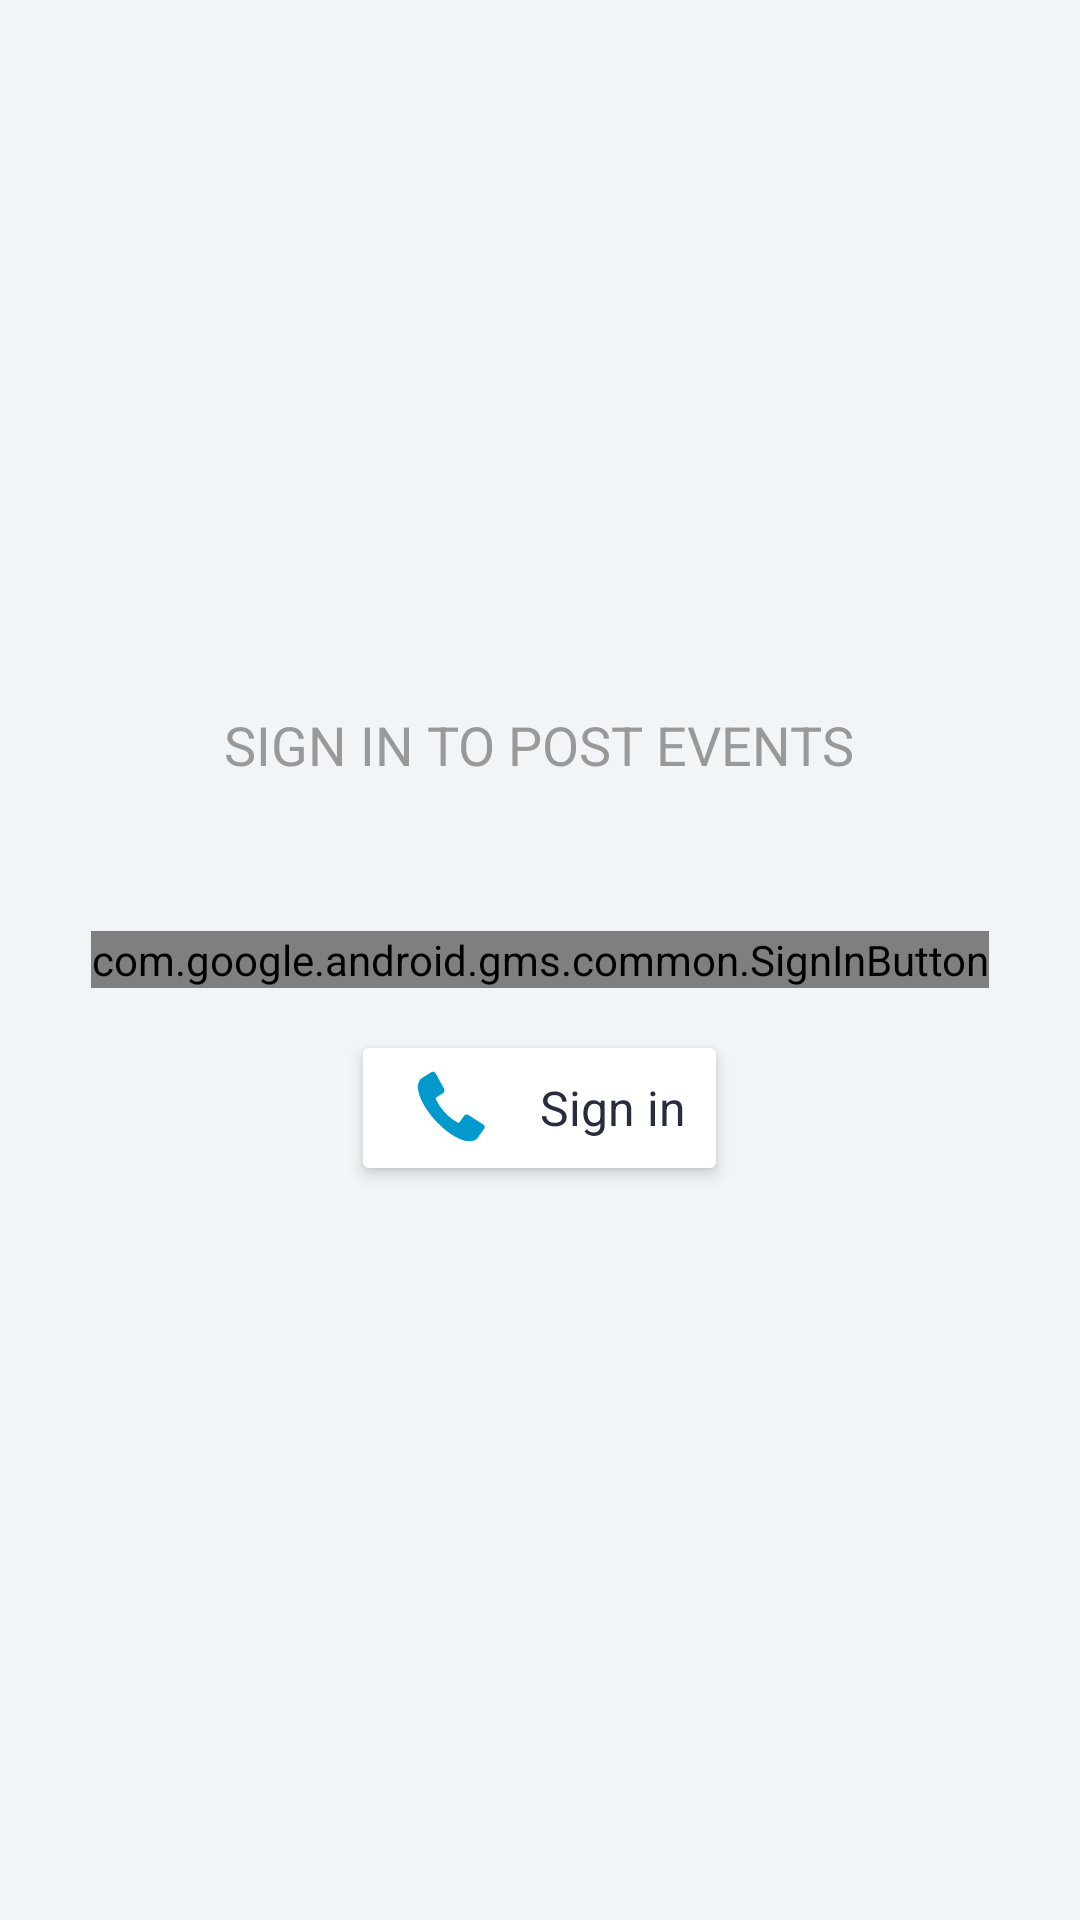

Icon click points for this 1080px x 1920px phone screenshot, format point (x, y):
phone: point (451, 1108)
